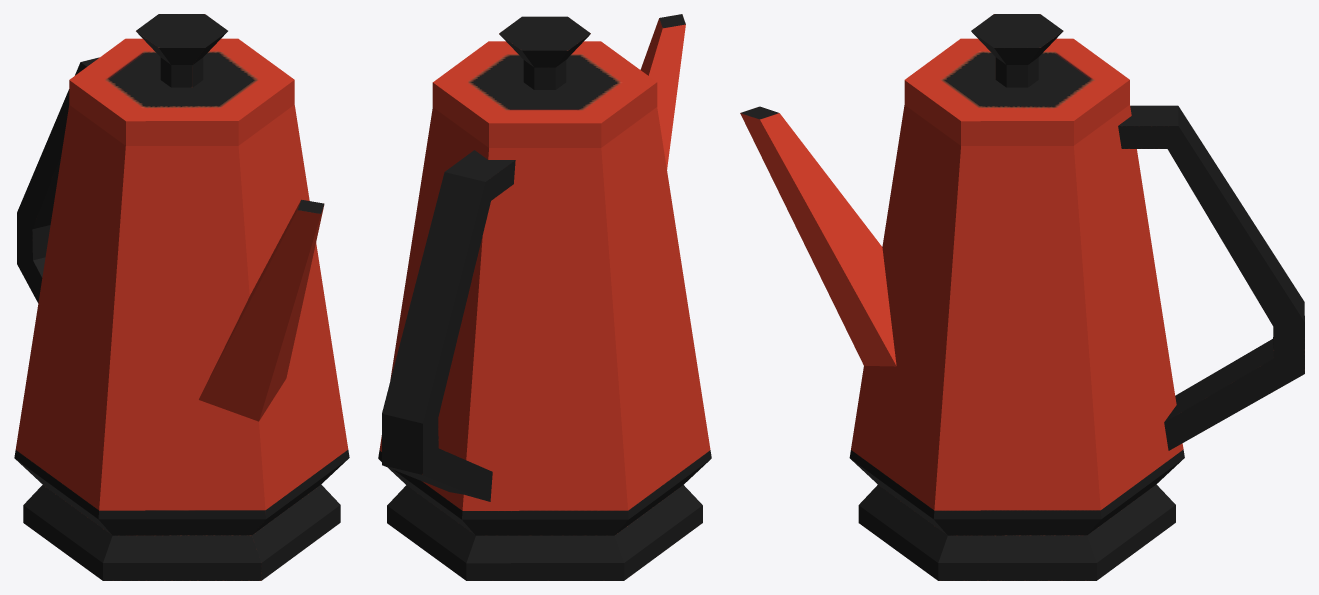
The model's file is coffeepot3_PLY.fbx.
3 views of the same model, side by side, from view 1: azimuth 30°, elevation 25°; view 2: azimuth 150°, elevation 25°; view 3: azimuth 270°, elevation 25° (orthographic).
Parts seen in each view (by area): view 1: coffeepot3_PLY; view 2: coffeepot3_PLY; view 3: coffeepot3_PLY.
Part boxes in pixels (x1,y1,x2,y2): coffeepot3_PLY: (14,14,349,580); coffeepot3_PLY: (378,14,711,580); coffeepot3_PLY: (740,14,1304,580).
Bounding box in the file's own units: 0.5874 × 1.1 × 1.14.
